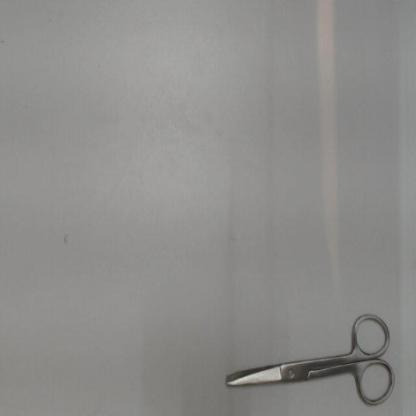Dressing Scissors: (216, 303, 401, 412)
